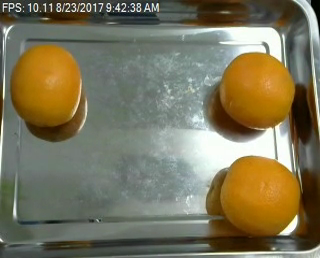Orange: (220, 155, 302, 235), (220, 51, 296, 130), (9, 43, 80, 126)
